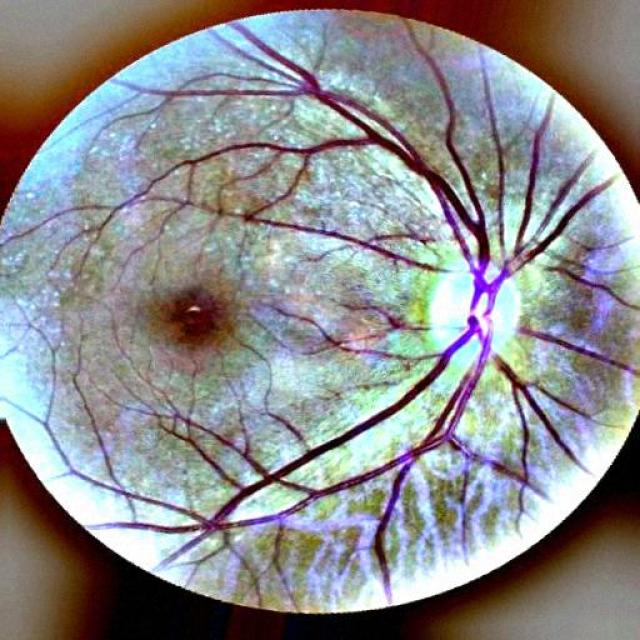Macula: (160, 285, 231, 347)
Nerves: (112, 50, 595, 293), (117, 323, 479, 560), (295, 333, 583, 572)
Optic Disk: (420, 251, 534, 376)
